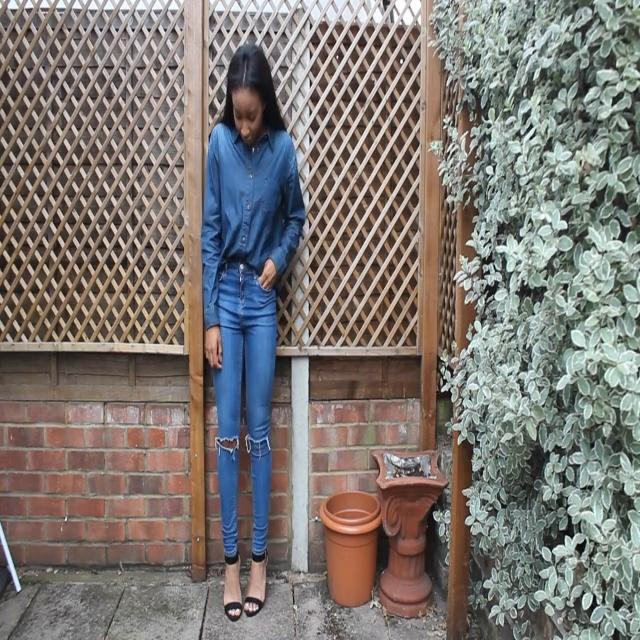Shirt: (202, 119, 306, 329)
